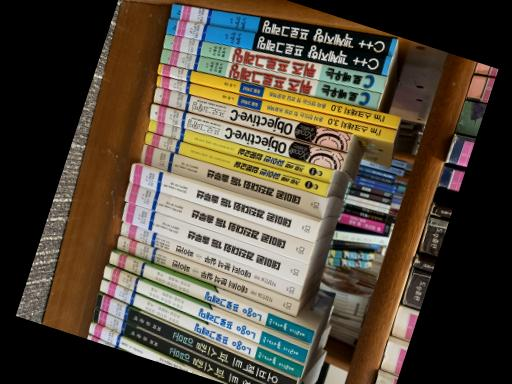book-spine: (98, 278, 302, 378), (101, 266, 307, 363), (107, 251, 313, 344), (94, 294, 296, 384), (155, 74, 395, 141), (156, 63, 400, 128), (121, 201, 307, 285), (123, 183, 312, 263), (128, 163, 318, 242), (116, 235, 298, 316), (119, 221, 302, 299), (139, 145, 326, 218), (158, 48, 381, 109), (148, 103, 345, 171), (162, 33, 386, 92), (165, 18, 391, 75), (152, 86, 350, 151), (92, 308, 261, 384), (143, 131, 328, 195), (168, 4, 396, 55), (147, 120, 332, 182), (88, 322, 219, 382)
